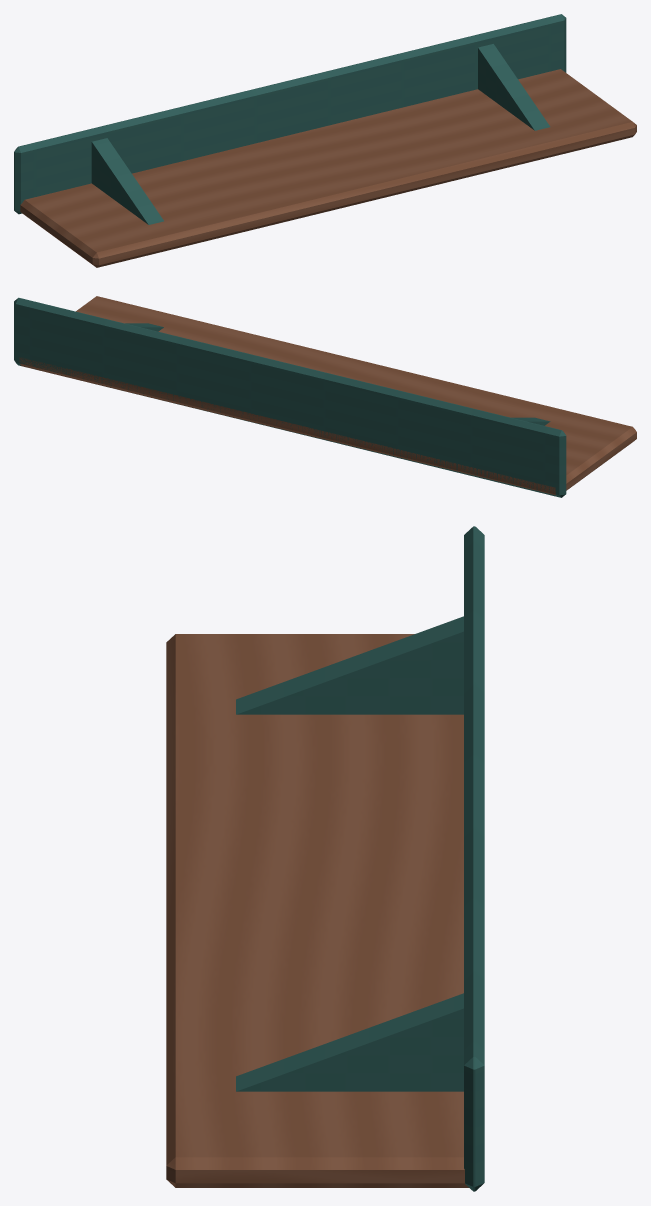
The model's file is P05_atlas_v1.glb.
The picture shows the model from 3 angles, top to bottom: view 1: azimuth 30°, elevation 25°; view 2: azimuth 150°, elevation 25°; view 3: azimuth 270°, elevation 25°; orthographic projection. The views are drawn at different scales.
Parts seen in each view (by area): view 1: P05_Wall_Shelf; view 2: P05_Wall_Shelf; view 3: P05_Wall_Shelf.
Part boxes in pixels (left/top/right/bottom): P05_Wall_Shelf: left=14, top=14, right=636, bottom=267; P05_Wall_Shelf: left=14, top=296, right=636, bottom=497; P05_Wall_Shelf: left=166, top=526, right=484, bottom=1191.
Bounding box in the file's own units: 6 × 0.7 × 1.5.
1 material, 1 textured.
